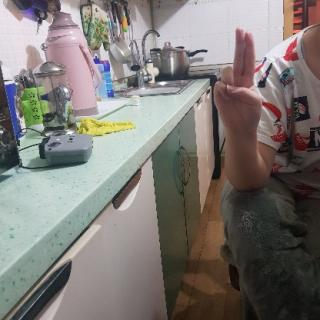TA: (212, 24, 268, 140)
